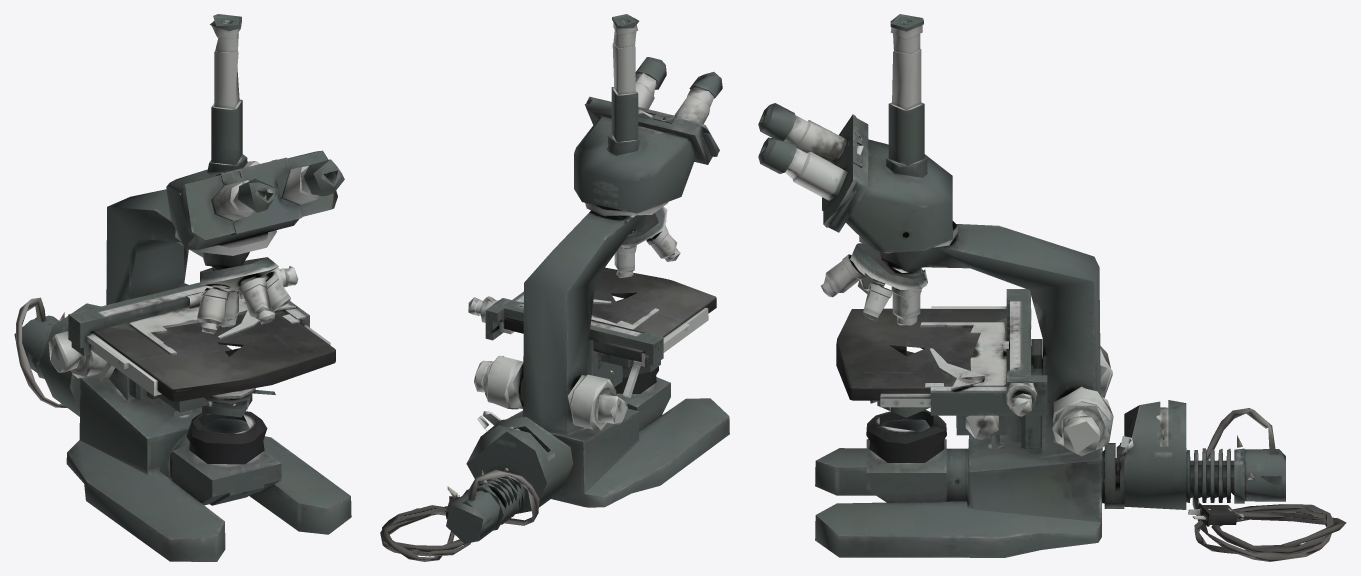
The model's file is industrial_microscope.glb.
The picture shows the model from 3 angles, left to right: view 1: azimuth 30°, elevation 25°; view 2: azimuth 150°, elevation 25°; view 3: azimuth 270°, elevation 25°; orthographic projection. The views are drawn at different scales.
Parts seen in each view (by area): view 1: industrial_microscope, industrial_microscope_cable; view 2: industrial_microscope, industrial_microscope_cable; view 3: industrial_microscope, industrial_microscope_cable.
Boxes of the visible parts, bbox=[...] form: industrial_microscope: bbox=[14, 14, 351, 561]; industrial_microscope_cable: bbox=[16, 297, 66, 407]; industrial_microscope: bbox=[446, 14, 729, 543]; industrial_microscope_cable: bbox=[380, 469, 539, 561]; industrial_microscope: bbox=[758, 14, 1285, 557]; industrial_microscope_cable: bbox=[1188, 408, 1346, 561].
Size of the model in its own units: 0.2145 by 0.4613 by 0.4981.
1 material, 1 textured.
